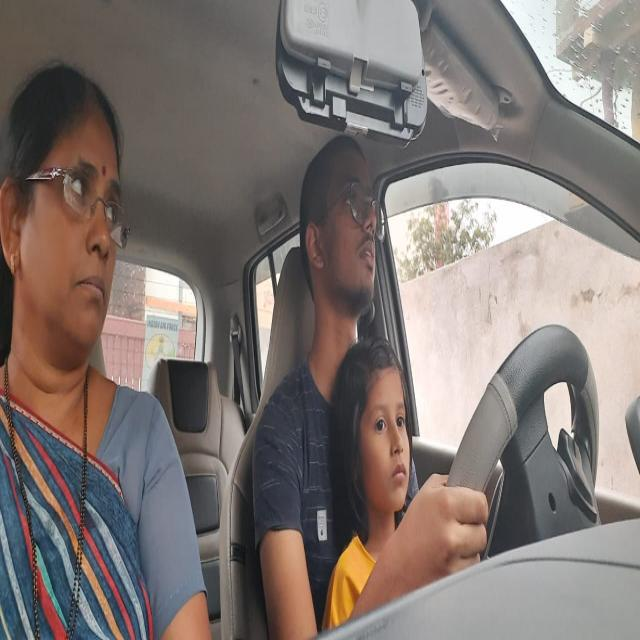child: (339, 347, 413, 512)
person: (1, 69, 126, 368), (301, 143, 381, 313)
